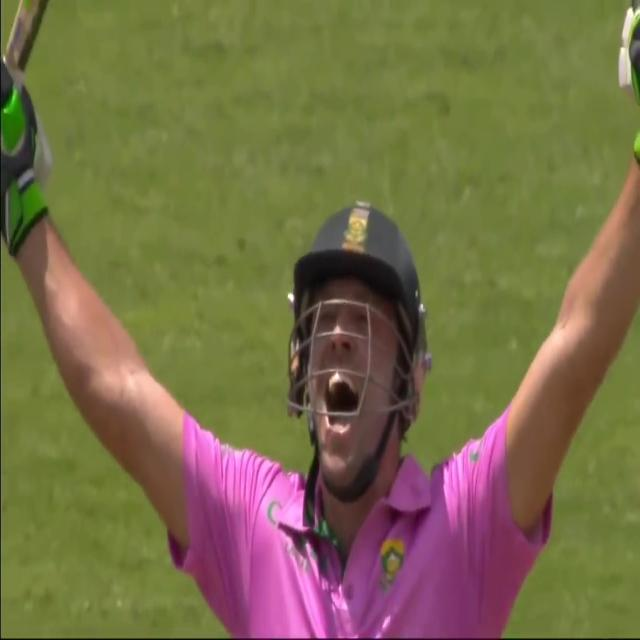Ball: (184, 7, 576, 640)
